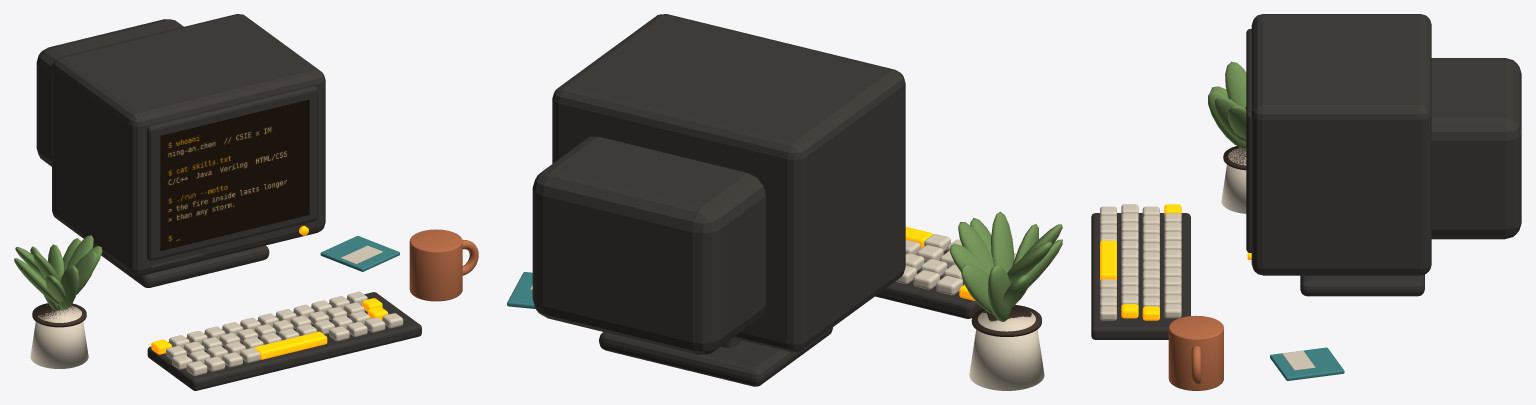
Rendered from desk.glb.
3 renders of one model, left to right at view 1: azimuth 30°, elevation 25°; view 2: azimuth 150°, elevation 25°; view 3: azimuth 270°, elevation 25°, orthographic. The views are drawn at different scales.
Visible parts, largest first — view 1: Monitor, Screen, Bezel, Keyboard, Mug, MonitorBack, Pot, Stand, Floppy, Key3_4, Soil, Leaf8 (+3 smaller); view 2: Monitor, MonitorBack, Stand, Pot, Keyboard, Leaf9, Soil, Leaf3, Leaf2, Leaf0, Leaf5, Floppy (+3 smaller); view 3: Monitor, MonitorBack, Keyboard, Mug, Stand, Floppy, Bezel, Pot, Leaf6, Key3_4, Leaf9, Leaf10 (+4 smaller).
Part boxes in pixels (bbox=[...]): Monitor: bbox=[52, 14, 325, 275]; Screen: bbox=[160, 99, 309, 251]; Bezel: bbox=[147, 86, 317, 260]; Keyboard: bbox=[147, 292, 421, 390]; Mug: bbox=[409, 229, 462, 301]; MonitorBack: bbox=[36, 19, 183, 166]; Pot: bbox=[30, 305, 88, 368]; Stand: bbox=[93, 245, 269, 287]; Floppy: bbox=[320, 236, 399, 271]; Key3_4: bbox=[254, 331, 327, 359]; Soil: bbox=[32, 303, 86, 327]; Leaf8: bbox=[58, 265, 79, 309]; Monitor: bbox=[552, 14, 905, 352]; MonitorBack: bbox=[532, 136, 765, 354]; Stand: bbox=[599, 327, 832, 386]; Pot: bbox=[969, 311, 1044, 390]; Keyboard: bbox=[875, 249, 982, 318]; Leaf9: bbox=[991, 211, 1014, 272]; Soil: bbox=[971, 305, 1041, 336]; Leaf3: bbox=[988, 265, 1011, 321]; Leaf2: bbox=[961, 264, 993, 314]; Leaf0: bbox=[958, 222, 994, 273]; Leaf5: bbox=[1007, 241, 1051, 283]; Floppy: bbox=[507, 272, 535, 308]; Monitor: bbox=[1251, 14, 1431, 275]; MonitorBack: bbox=[1431, 58, 1521, 239]; Keyboard: bbox=[1091, 213, 1190, 339]; Mug: bbox=[1168, 315, 1223, 390]; Stand: bbox=[1300, 274, 1424, 296]; Floppy: bbox=[1270, 347, 1344, 380]; Bezel: bbox=[1246, 29, 1251, 252]; Pot: bbox=[1221, 147, 1246, 213]; Leaf6: bbox=[1225, 61, 1246, 107]; Key3_4: bbox=[1100, 240, 1116, 280]; Leaf9: bbox=[1214, 96, 1246, 142]; Leaf10: bbox=[1228, 105, 1246, 139].
Bounding box in the file's own units: 3.75 × 1.82 × 3.11.
Materials: 11 (1 with a texture image).
